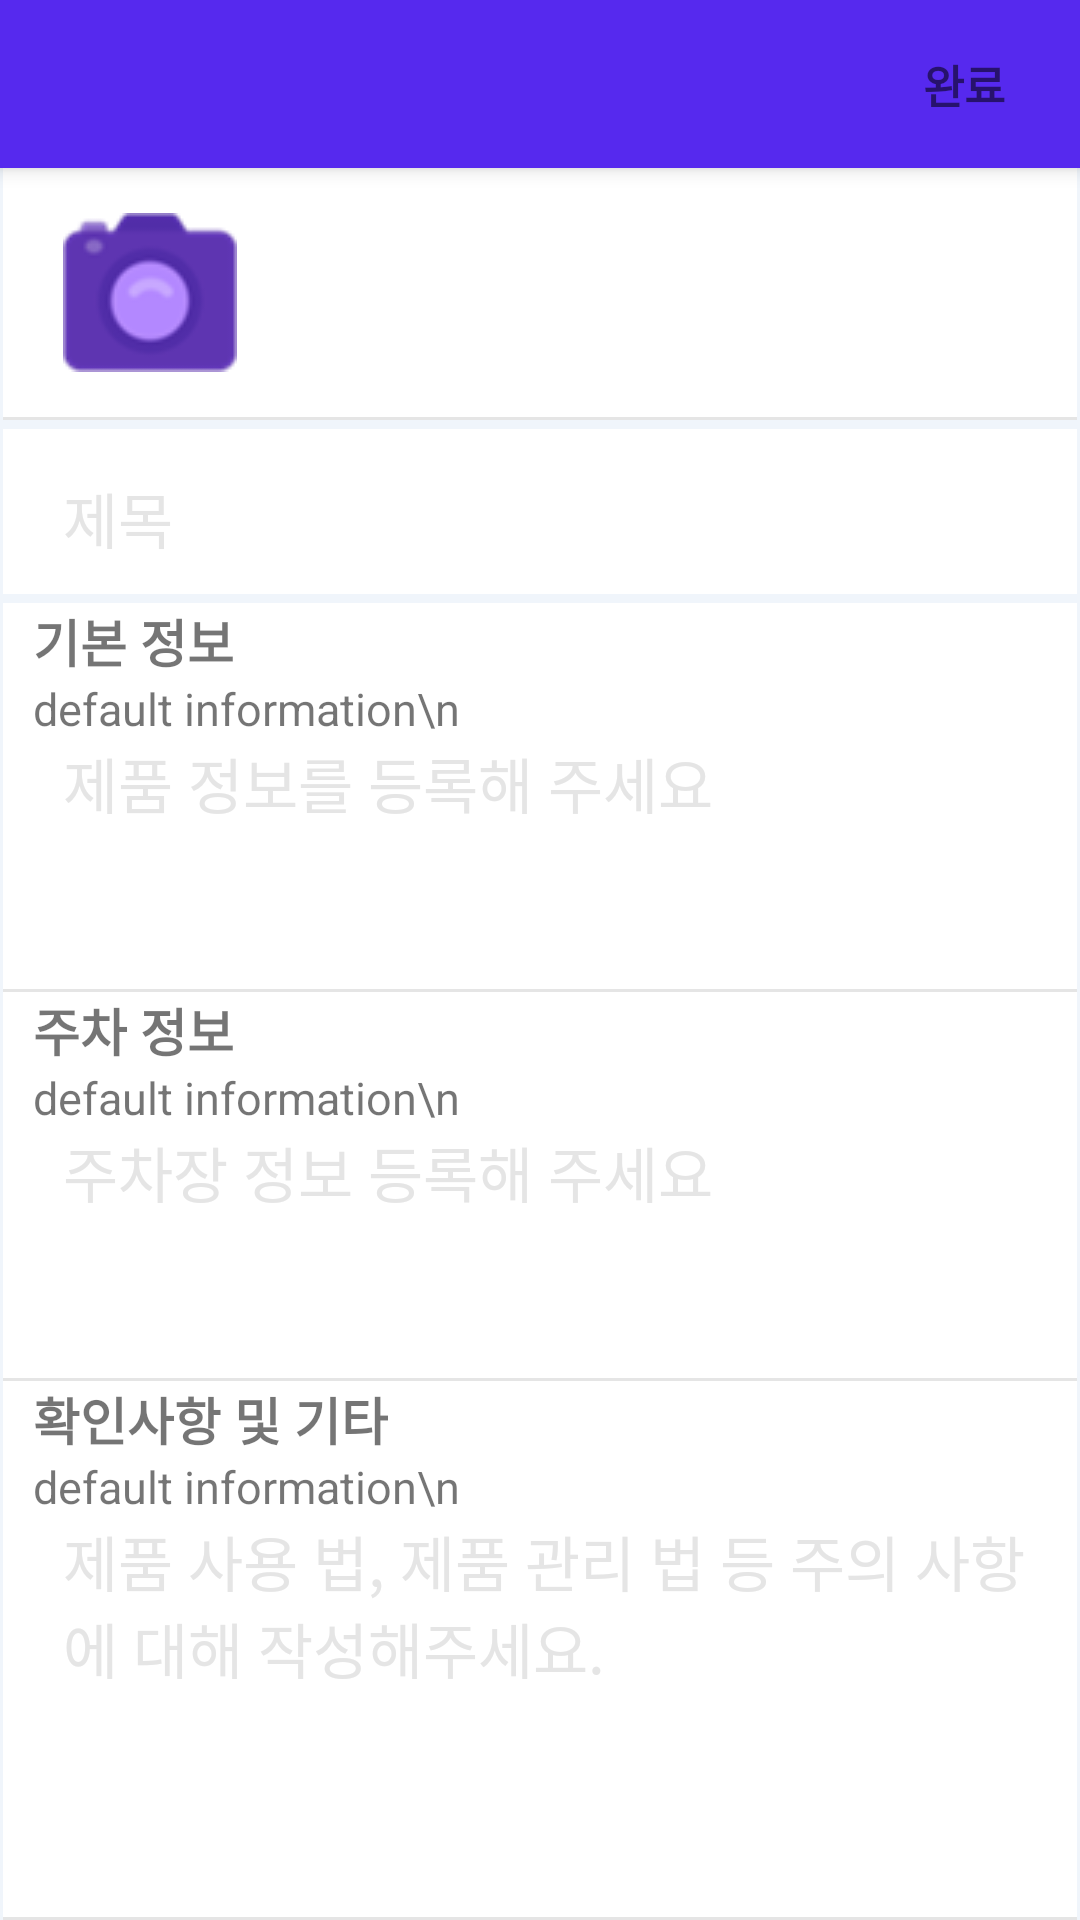

Icon click points for this 1080×1920 phone screenshot, format [x,y]:
cam: [150,292]
